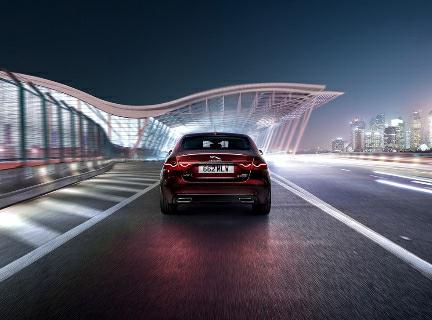捷豹-XF: (158, 130, 278, 219)
